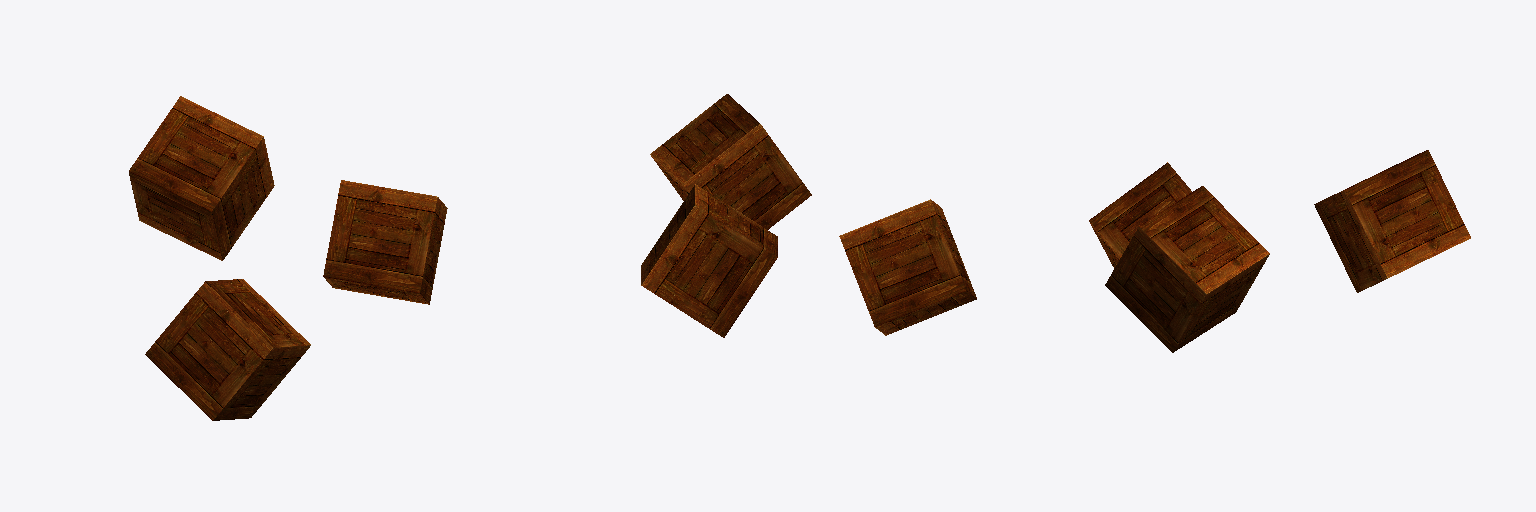
The picture shows the model from 3 angles: view 1: azimuth 30°, elevation 25°; view 2: azimuth 150°, elevation 25°; view 3: azimuth 270°, elevation 25°; orthographic projection.
Visible parts, largest first — view 1: group pasted__Box006, group pasted__Box007, pasted__Box008 group; view 2: group pasted__Box006, group pasted__Box007, pasted__Box008 group; view 3: pasted__Box008 group, group pasted__Box006, group pasted__Box007.
Part boxes in pixels (bbox=[...]): group pasted__Box006: bbox=[129, 96, 274, 260]; group pasted__Box007: bbox=[145, 279, 310, 420]; pasted__Box008 group: bbox=[323, 180, 447, 304]; group pasted__Box006: bbox=[641, 184, 777, 337]; group pasted__Box007: bbox=[839, 199, 976, 335]; pasted__Box008 group: bbox=[650, 94, 811, 229]; pasted__Box008 group: bbox=[1105, 186, 1269, 352]; group pasted__Box006: bbox=[1314, 150, 1470, 292]; group pasted__Box007: bbox=[1089, 162, 1191, 268].
Bounding box in the file's own units: 119 × 77.84 × 127.
1 materials, 1 textured.